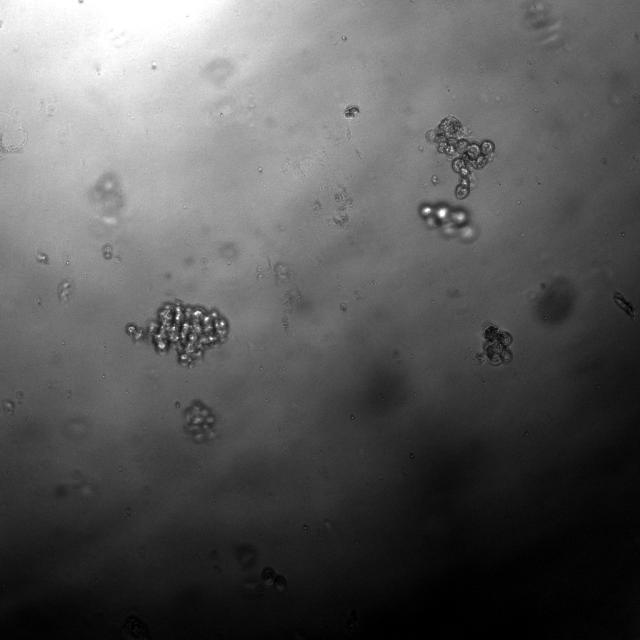organoid: (126, 300, 229, 366), (427, 115, 494, 199), (418, 202, 478, 242), (476, 323, 513, 366), (183, 399, 216, 443), (344, 105, 361, 119)
